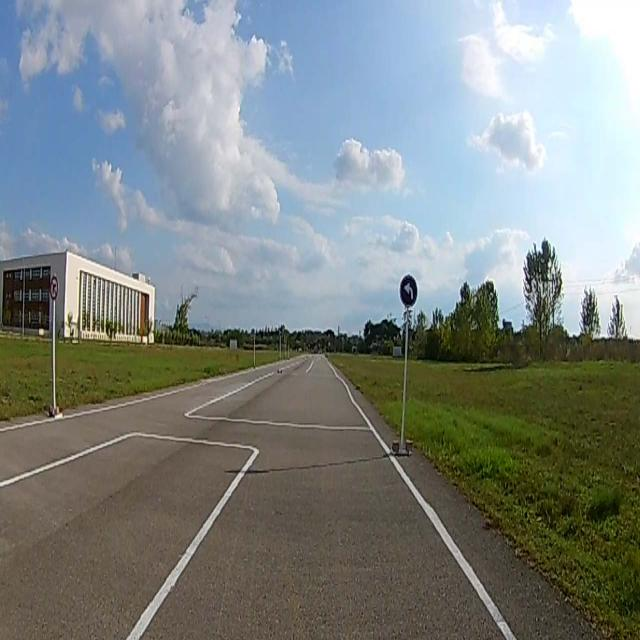sagadonulmez: (50, 276, 59, 300)
sol: (400, 275, 419, 309)
